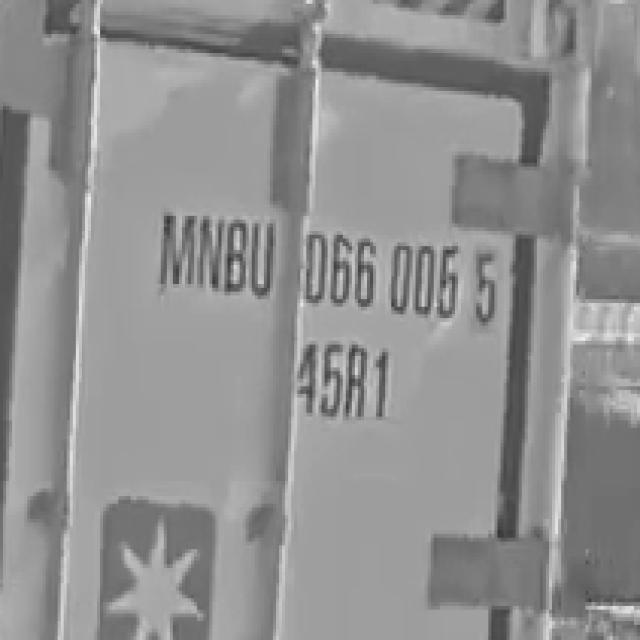dv: (473, 234, 510, 331)
owner: (146, 193, 279, 314)
serial: (302, 226, 456, 328)
size: (273, 330, 418, 435)
